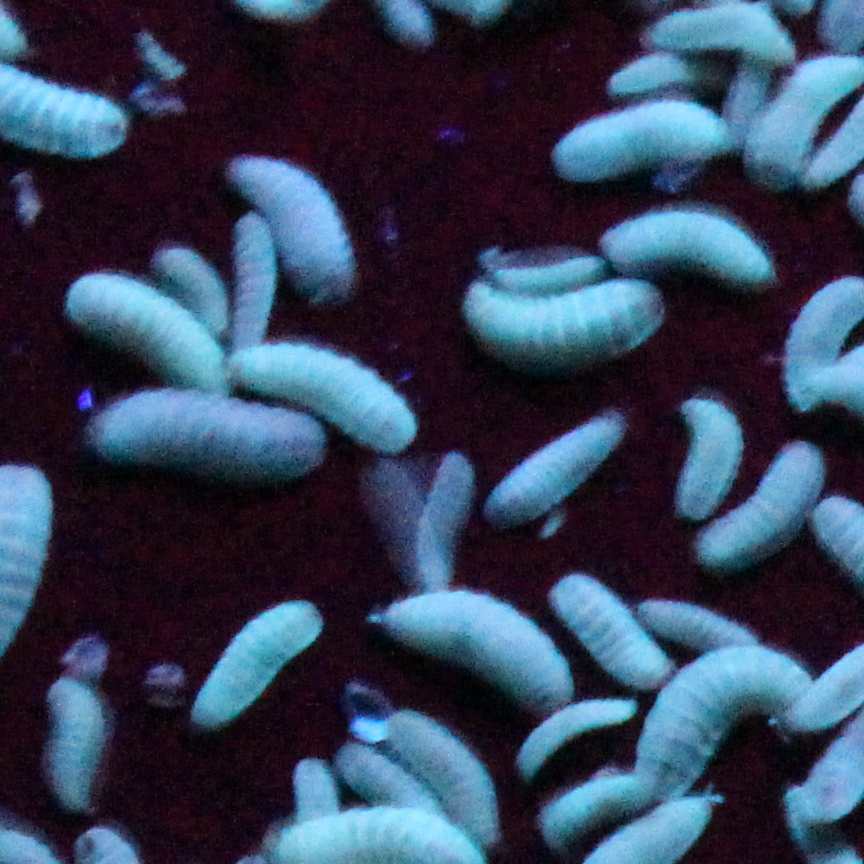larve: (635, 651, 817, 797), (224, 333, 415, 453), (88, 385, 335, 476), (381, 583, 574, 699), (229, 144, 367, 301), (181, 594, 326, 733), (63, 269, 229, 388), (460, 272, 670, 353), (488, 413, 631, 528), (381, 706, 499, 842), (595, 206, 779, 283), (554, 99, 726, 181), (695, 447, 822, 558), (545, 567, 663, 681), (520, 694, 638, 769), (415, 447, 476, 592), (674, 388, 742, 517), (329, 740, 440, 815), (151, 238, 233, 338), (538, 774, 645, 842), (231, 203, 281, 344), (54, 672, 104, 813), (647, 590, 758, 653), (476, 247, 599, 294), (601, 53, 697, 94), (297, 753, 333, 817)
